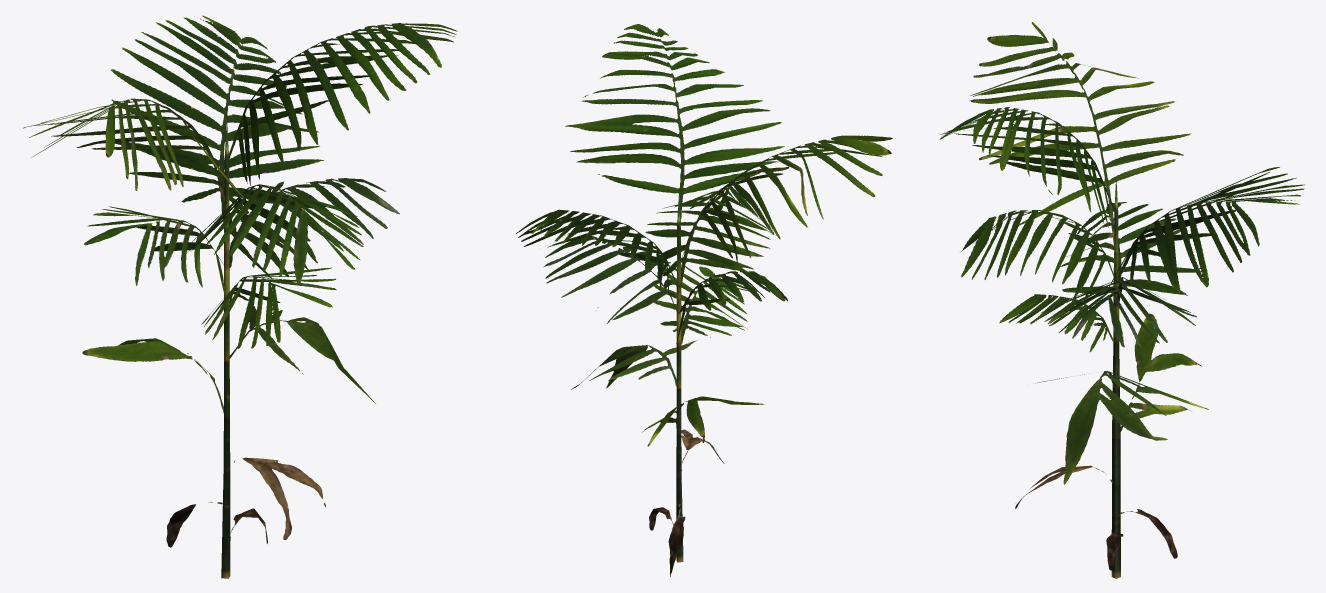
File: cane_palm.glb
3 renders of one model, left to right at view 1: azimuth 30°, elevation 25°; view 2: azimuth 150°, elevation 25°; view 3: azimuth 270°, elevation 25°, orthographic. The views are drawn at different scales.
Parts seen in each view (by area): view 1: Megascans cane_palm; view 2: Megascans cane_palm; view 3: Megascans cane_palm.
Part boxes in pixels (x1,y1,x2,y2): Megascans cane_palm: (23,15,457,578); Megascans cane_palm: (516,24,892,576); Megascans cane_palm: (939,22,1305,578).
Size of the model in its own units: 0.7662 by 1.09 by 0.735.
Materials: 1 (1 with a texture image).
